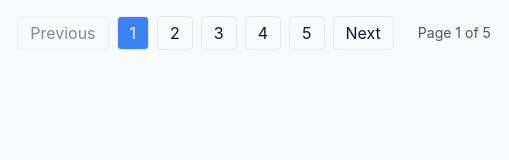
Pagination › updates page display after navigation
What coordinates should you click on to do the following:
click the button "Next"
I would click on:
 (363, 33)
Its box is [332, 16, 394, 50].
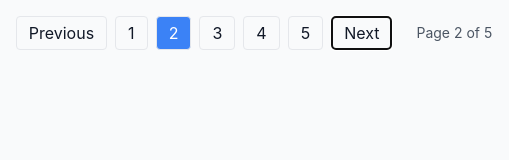
Expected: the text "Page 2 of 5" is shown, [416, 23, 492, 43]
